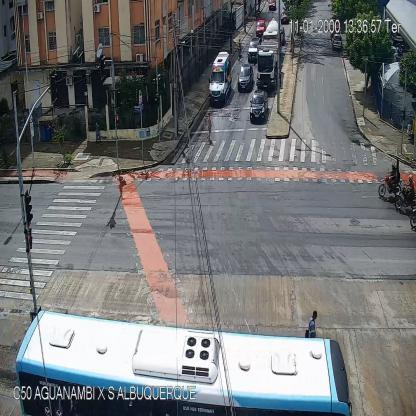bus: (15, 308, 351, 416)
car: (208, 51, 232, 104), (249, 94, 268, 122), (237, 64, 253, 92), (249, 40, 257, 60), (332, 34, 342, 49), (256, 18, 264, 35), (281, 13, 288, 25)
motorbike: (378, 164, 400, 198), (396, 174, 416, 208), (237, 38, 242, 58)
person: (308, 308, 319, 340), (206, 114, 213, 144), (95, 119, 102, 146), (249, 3, 252, 15)
truck: (257, 38, 279, 90), (264, 17, 280, 49)
